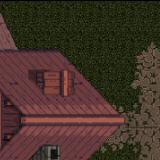Obstacle: (0, 0, 61, 160)
